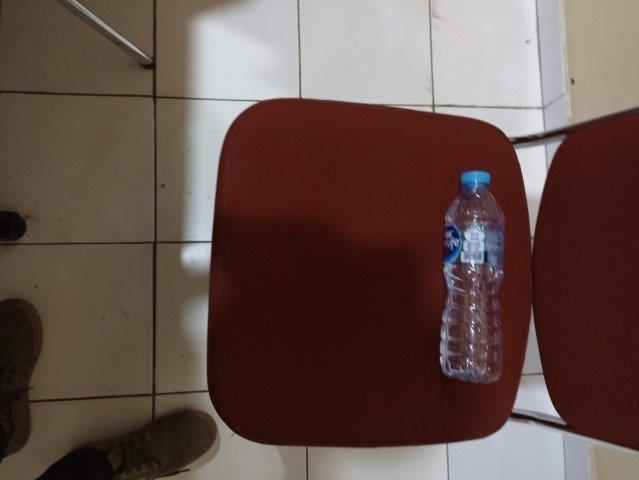botolplastik: (437, 171, 502, 383)
